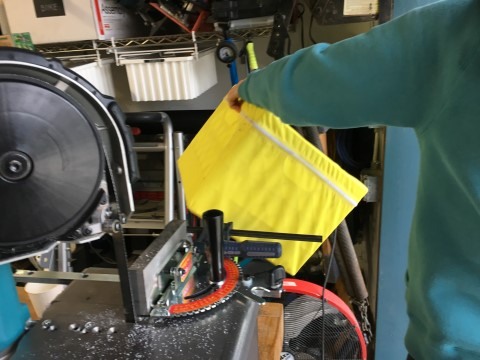cube: (176, 88, 369, 279)
